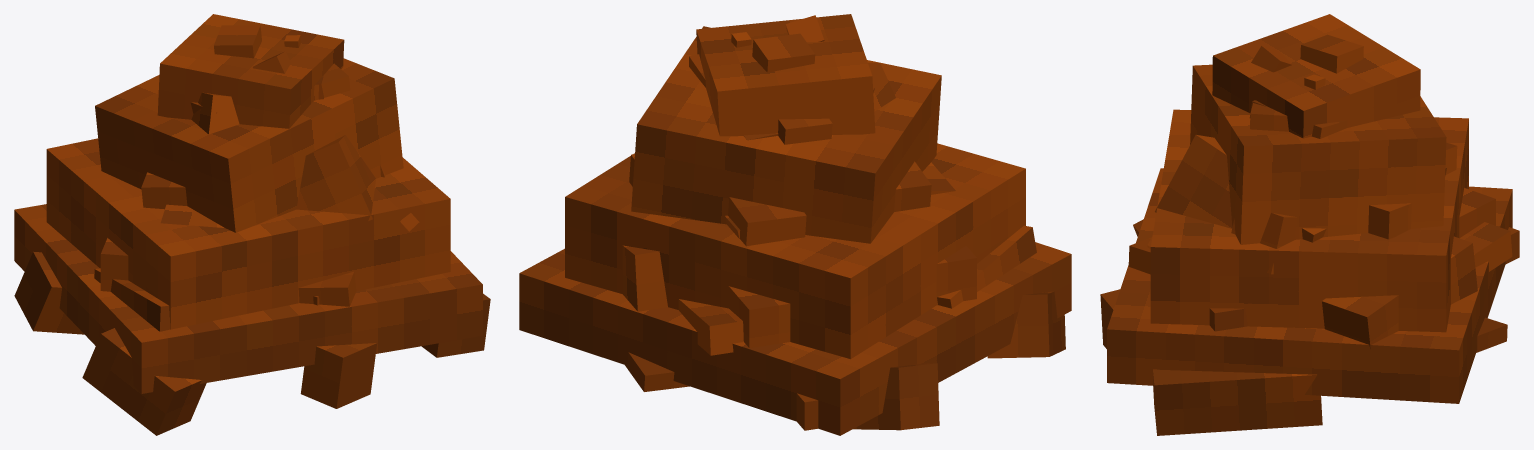
File: clay.fbx
The picture shows the model from 3 angles, left to right: view 1: azimuth 30°, elevation 25°; view 2: azimuth 150°, elevation 25°; view 3: azimuth 270°, elevation 25°; orthographic projection. The views are drawn at different scales.
Visible parts, largest first — view 1: cube_1, cube_18, cube_2, cube_3, cube_24, cube_8, cube_23, cube_25, cube_28, cube_11, cube_14, cube_15 (+6 smaller); view 2: cube_1, cube_18, cube_2, cube_3, cube_25, cube_24, cube_6, cube_5, cube_10, cube_26, cube_28, cube_15 (+8 smaller); view 3: cube_1, cube_18, cube_2, cube_3, cube_22, cube_10, cube_8, cube_15, cube_26, cube_7, cube_6, cube_30 (+7 smaller).
Boxes of the visible parts, x1,y1,x2,y2 form: cube_1: (46, 138, 450, 329); cube_18: (14, 204, 482, 393); cube_2: (95, 58, 403, 232); cube_3: (157, 14, 344, 128); cube_24: (82, 328, 206, 435); cube_8: (296, 135, 375, 220); cube_23: (300, 343, 377, 408); cube_25: (14, 251, 84, 334); cube_28: (94, 268, 170, 331); cube_11: (298, 271, 356, 306); cube_14: (191, 92, 239, 134); cube_15: (214, 25, 261, 58); cube_1: (565, 143, 1025, 359); cube_18: (519, 242, 1071, 435); cube_2: (631, 26, 941, 243); cube_3: (696, 14, 875, 136); cube_25: (853, 363, 939, 430); cube_24: (987, 291, 1065, 358); cube_6: (728, 286, 790, 348); cube_5: (728, 197, 806, 246); cube_10: (622, 245, 667, 311); cube_26: (678, 299, 743, 355); cube_28: (937, 225, 1036, 308); cube_15: (752, 33, 815, 72); cube_1: (1150, 109, 1468, 332); cube_18: (1107, 168, 1512, 403); cube_2: (1190, 64, 1446, 244); cube_3: (1212, 14, 1420, 138); cube_22: (1153, 369, 1322, 435); cube_10: (1322, 236, 1477, 348); cube_8: (1155, 135, 1232, 228); cube_15: (1300, 34, 1363, 73); cube_26: (1460, 222, 1512, 271); cube_7: (1368, 203, 1411, 239); cube_6: (1459, 188, 1495, 238); cube_30: (1231, 213, 1296, 274).
Size of the model in its own units: 95.9 by 73.76 by 88.41.
